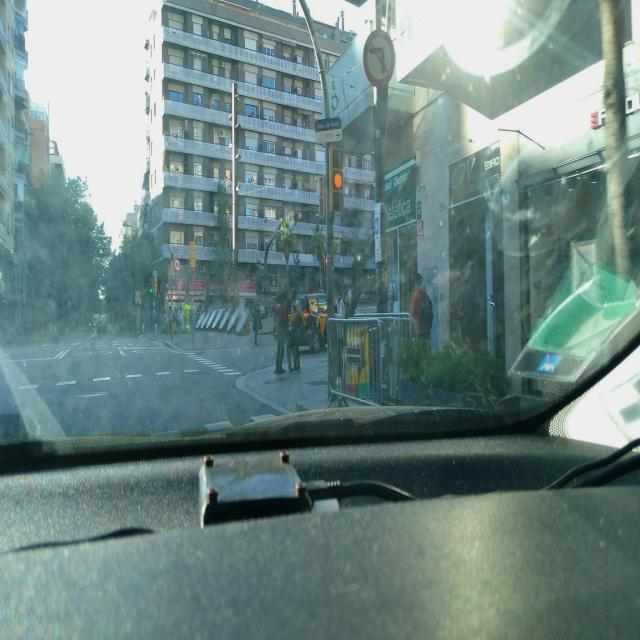car: (292, 291, 328, 346), (96, 316, 108, 335)
